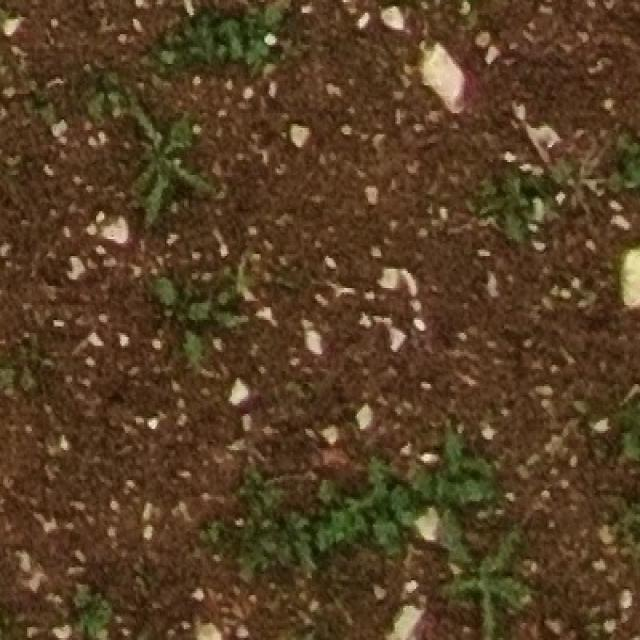cirse: (130, 104, 216, 228), (445, 539, 537, 640)
